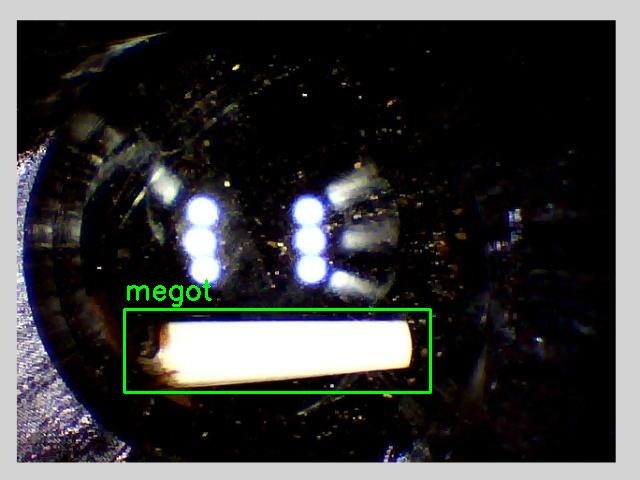megot: (124, 309, 430, 392)
